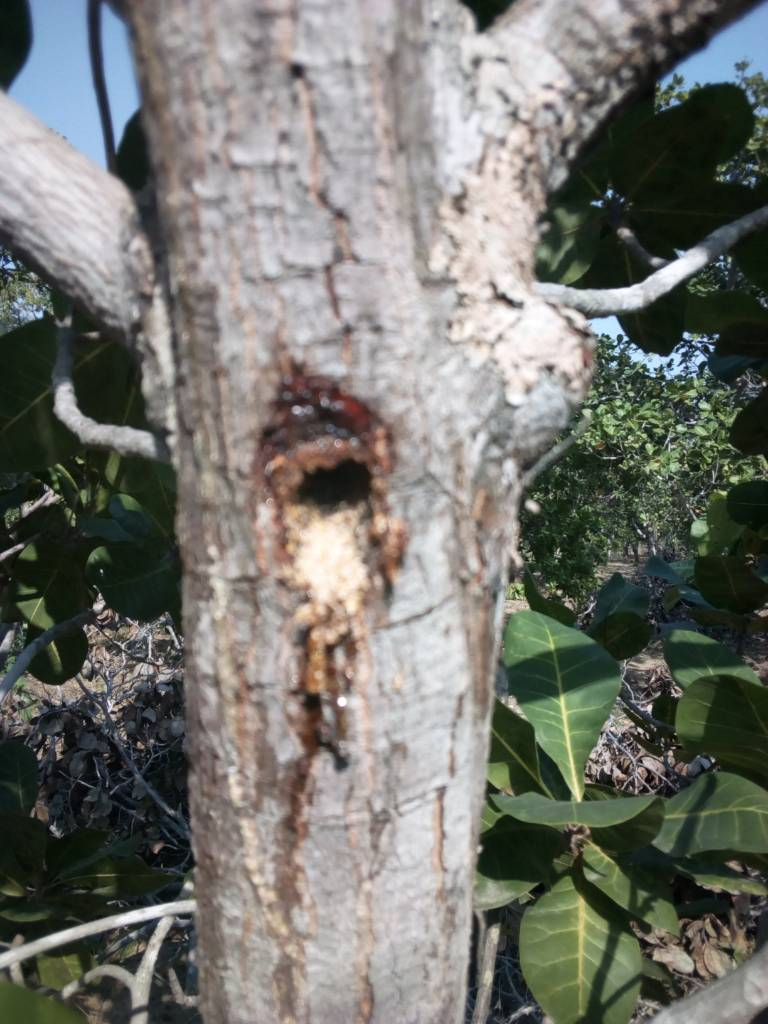Apate terebrans: (243, 431, 425, 546)
